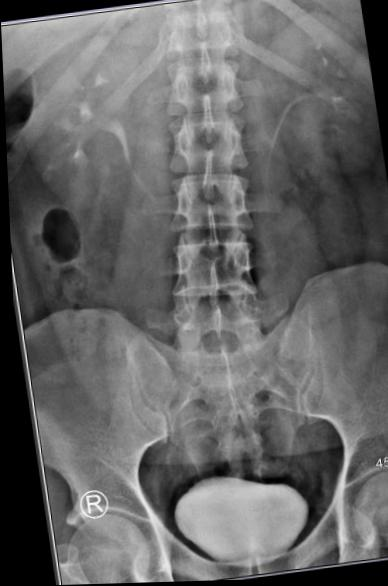bladder: (149, 465, 316, 582)
left kidney: (247, 0, 383, 186)
right kidney: (10, 51, 142, 228)
vertebrae: (151, 40, 241, 121)
